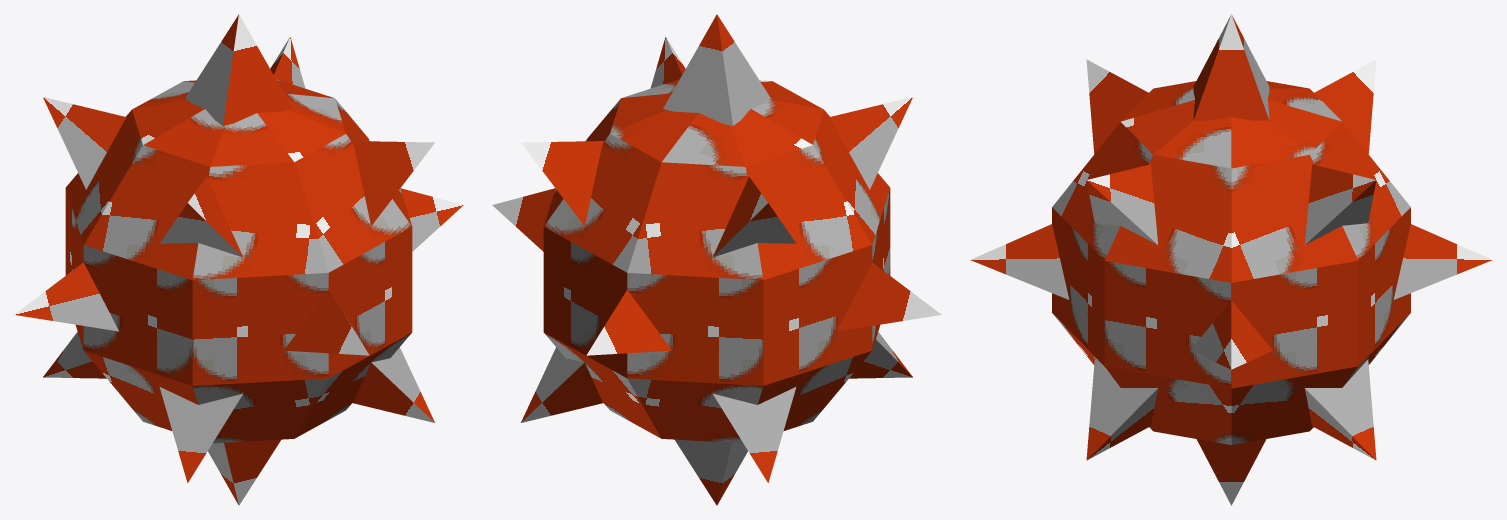
Rendered from paipo.obj.
3 renders of one model, left to right at view 1: azimuth 30°, elevation 25°; view 2: azimuth 150°, elevation 25°; view 3: azimuth 270°, elevation 25°, orthographic.
Parts seen in each view (by area): view 1: paipo_model; view 2: paipo_model; view 3: paipo_model.
Part boxes in pixels (left/top/right/bottom): paipo_model: left=14, top=14, right=463, bottom=505; paipo_model: left=492, top=14, right=941, bottom=505; paipo_model: left=970, top=14, right=1492, bottom=505.
Bounding box in the file's own units: 8.87 × 9.27 × 8.93.
1 material, 1 textured.
